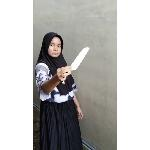Pisau: (58, 45, 92, 83)
